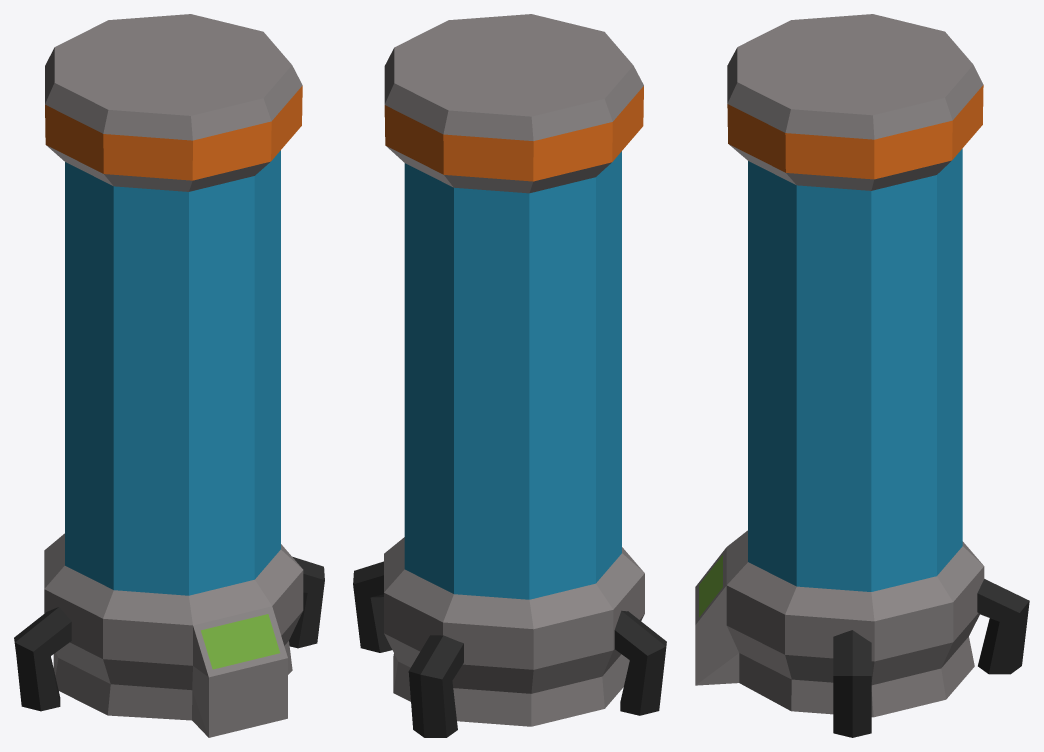
The model's file is scifi_scifi-tube-specimen.fbx.
3 views of the same model, side by side, from view 1: azimuth 30°, elevation 25°; view 2: azimuth 150°, elevation 25°; view 3: azimuth 270°, elevation 25° (orthographic).
Parts seen in each view (by area): view 1: scifi_scifi_tube_specimen; view 2: scifi_scifi_tube_specimen; view 3: scifi_scifi_tube_specimen.
Part boxes in pixels (<box>): scifi_scifi_tube_specimen: <box>14,14,324,737</box>; scifi_scifi_tube_specimen: <box>353,14,666,737</box>; scifi_scifi_tube_specimen: <box>695,14,1029,737</box>.
Size of the model in its own units: 107 by 200 by 101.
